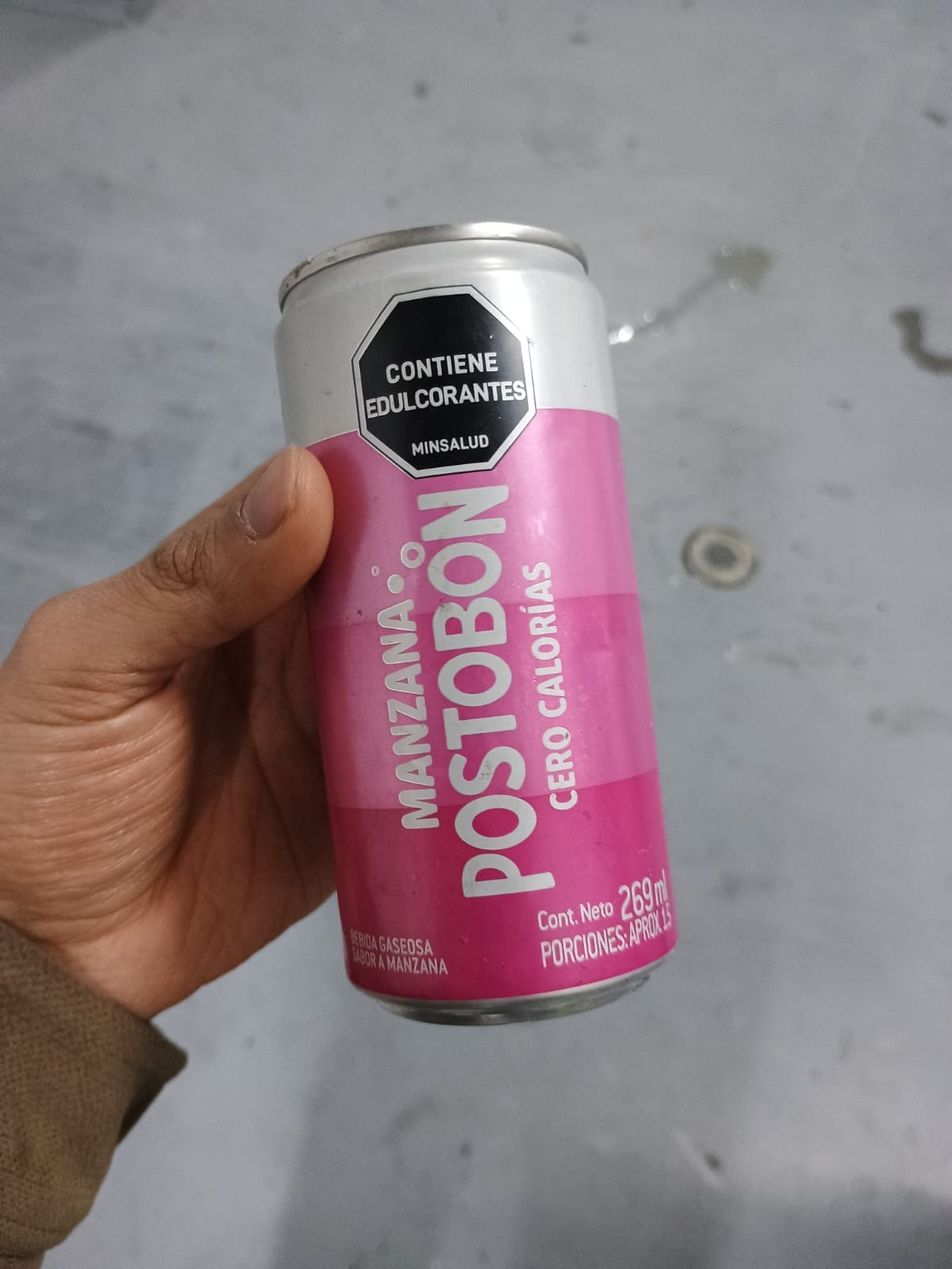Metal: (278, 219, 676, 1028)
